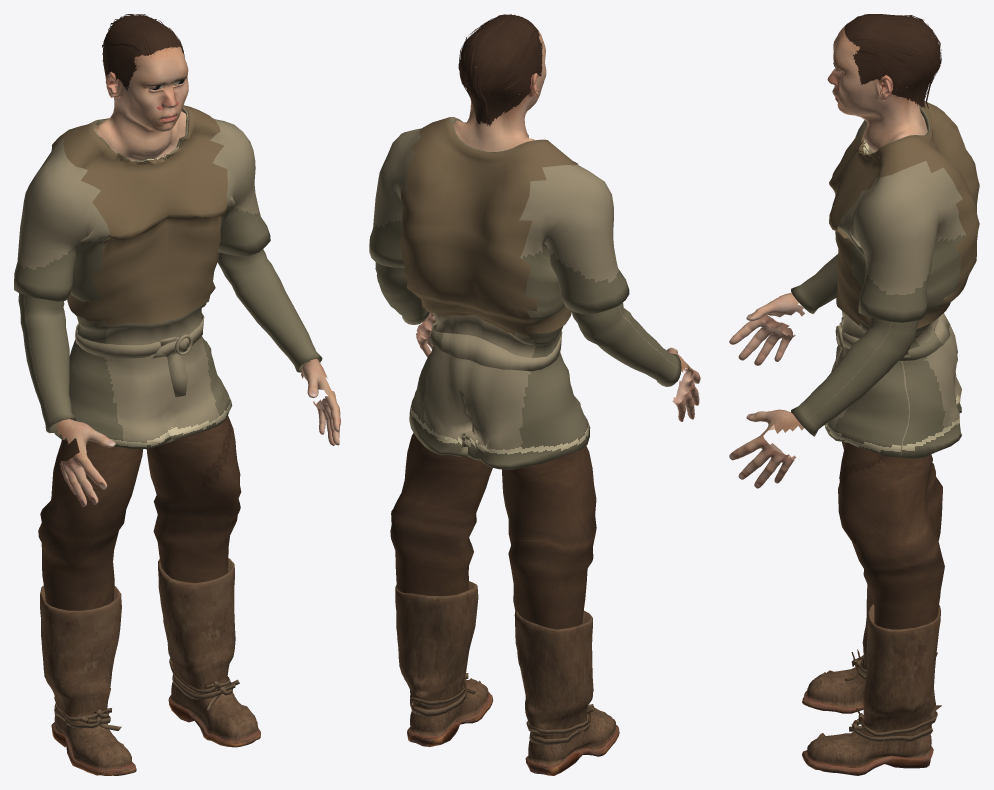
File: mike-work-vest.glb
The picture shows the model from 3 angles, left to right: view 1: azimuth 30°, elevation 25°; view 2: azimuth 150°, elevation 25°; view 3: azimuth 270°, elevation 25°; orthographic projection.
Visible parts, largest first — view 1: mike-work-vest runtime mesh; view 2: mike-work-vest runtime mesh; view 3: mike-work-vest runtime mesh.
Boxes of the visible parts, bbox=[...] form: mike-work-vest runtime mesh: bbox=[14, 14, 340, 775]; mike-work-vest runtime mesh: bbox=[369, 14, 700, 775]; mike-work-vest runtime mesh: bbox=[729, 14, 979, 775].
Size of the model in its own units: 0.7433 by 1.85 by 0.5853.
9 materials, 7 textured.
